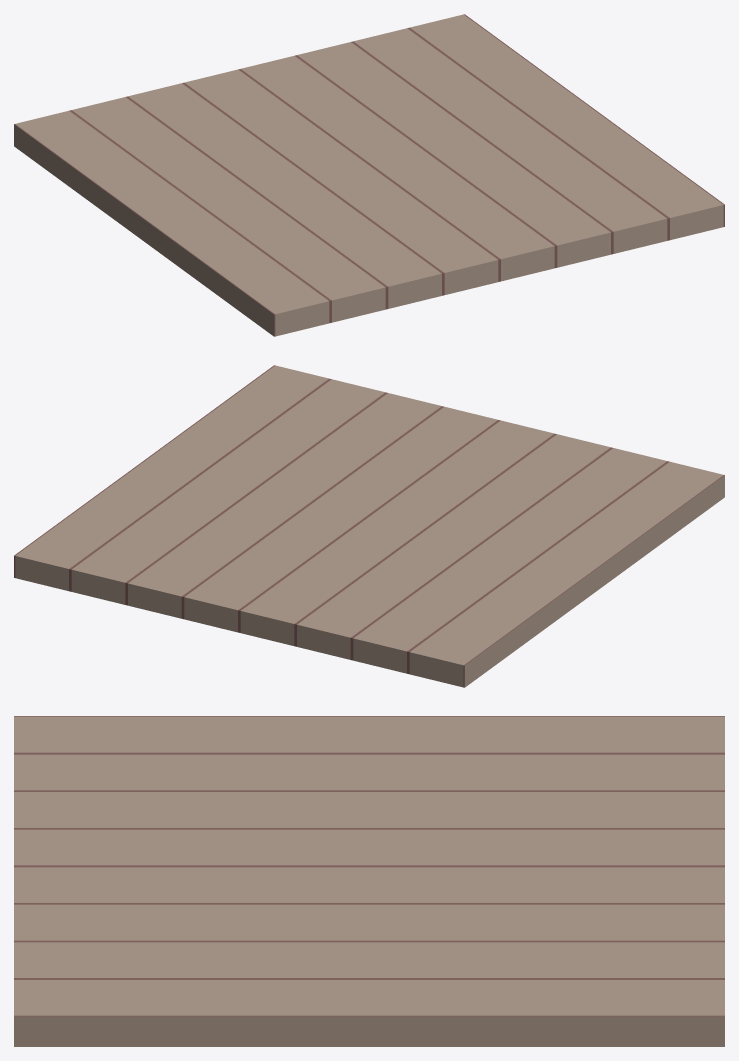
The model's file is FloorDesign_optional.fbx.
3 views of the same model, one above another, from view 1: azimuth 30°, elevation 25°; view 2: azimuth 150°, elevation 25°; view 3: azimuth 270°, elevation 25° (orthographic). The views are drawn at different scales.
Visible parts, largest first — view 1: Floor_09; view 2: Floor_09; view 3: Floor_09.
Part boxes in pixels (x1=…): Floor_09: x1=14, y1=14, x2=724, y2=336; Floor_09: x1=14, y1=365, x2=724, y2=687; Floor_09: x1=14, y1=716, x2=724, y2=1046.
Bounding box in the file's own units: 450 × 21.22 × 450.
